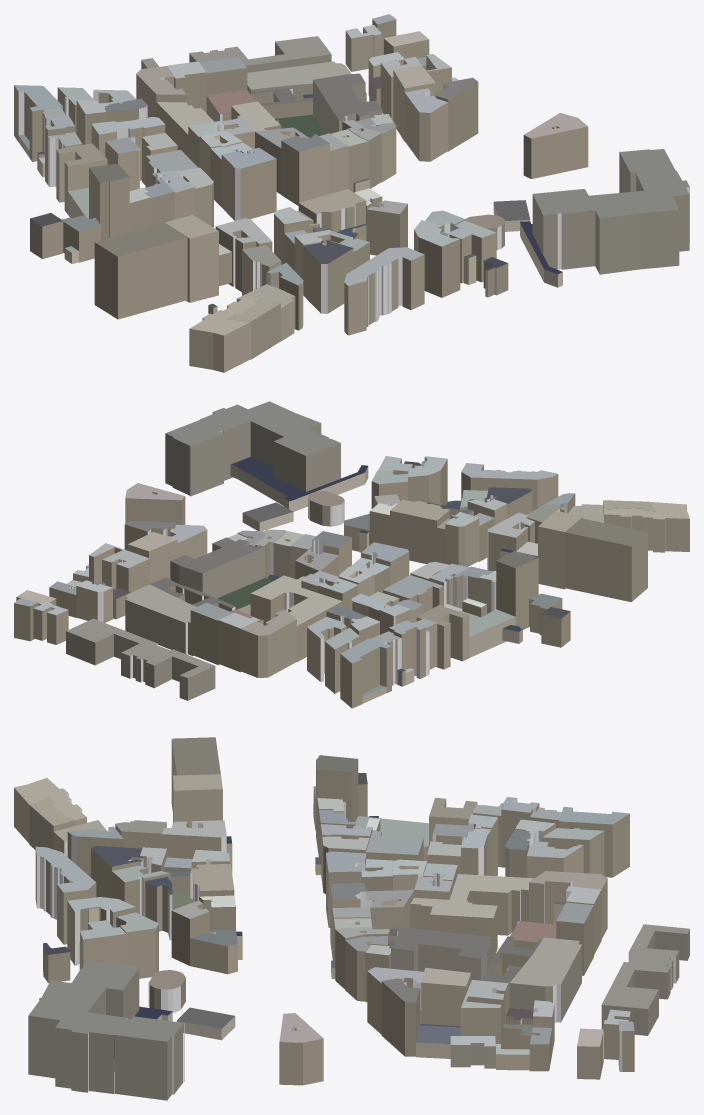
The picture shows the model from 3 angles, top to bottom: view 1: azimuth 30°, elevation 25°; view 2: azimuth 150°, elevation 25°; view 3: azimuth 270°, elevation 25°; orthographic projection. The views are drawn at different scales.
Visible parts, largest first — view 1: tuile; view 2: tuile; view 3: tuile.
Part boxes in pixels (x1=…): tuile: x1=14, y1=14, x2=689, y2=372; tuile: x1=14, y1=401, x2=689, y2=708; tuile: x1=14, y1=737, x2=689, y2=1100.
Bounding box in the file's own units: 276 × 43.05 × 282.
